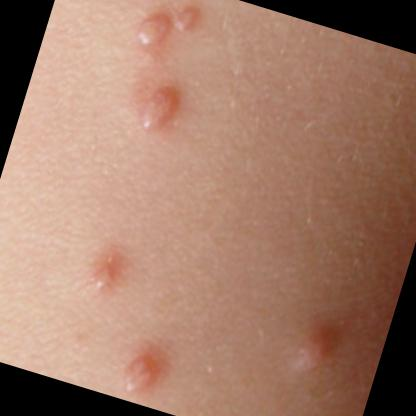Warts: (131, 71, 190, 153), (284, 308, 338, 382), (115, 344, 170, 404), (130, 0, 174, 56), (84, 247, 122, 300), (167, 0, 202, 45)
